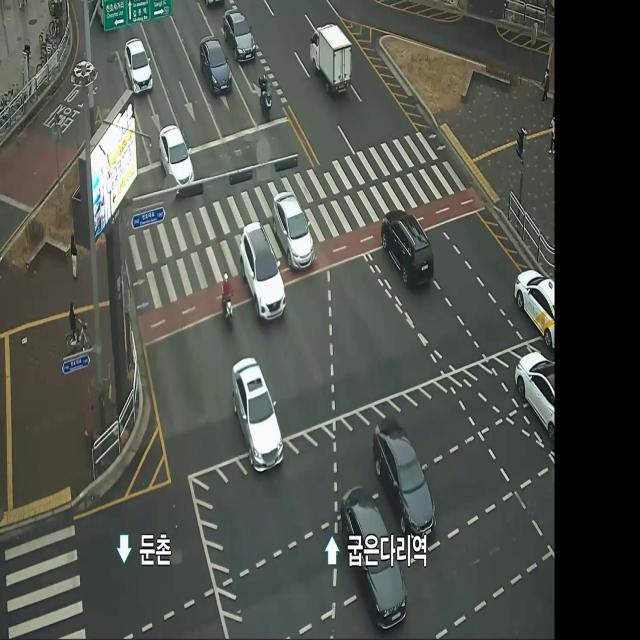motorcycle: (376, 414, 433, 535), (348, 495, 396, 635), (233, 362, 284, 476), (380, 204, 433, 292), (246, 225, 278, 324), (519, 356, 557, 436), (517, 273, 557, 341), (279, 193, 312, 266), (160, 129, 193, 192), (127, 34, 152, 100), (201, 40, 229, 97), (224, 9, 254, 57)
truck: (306, 18, 352, 97)
